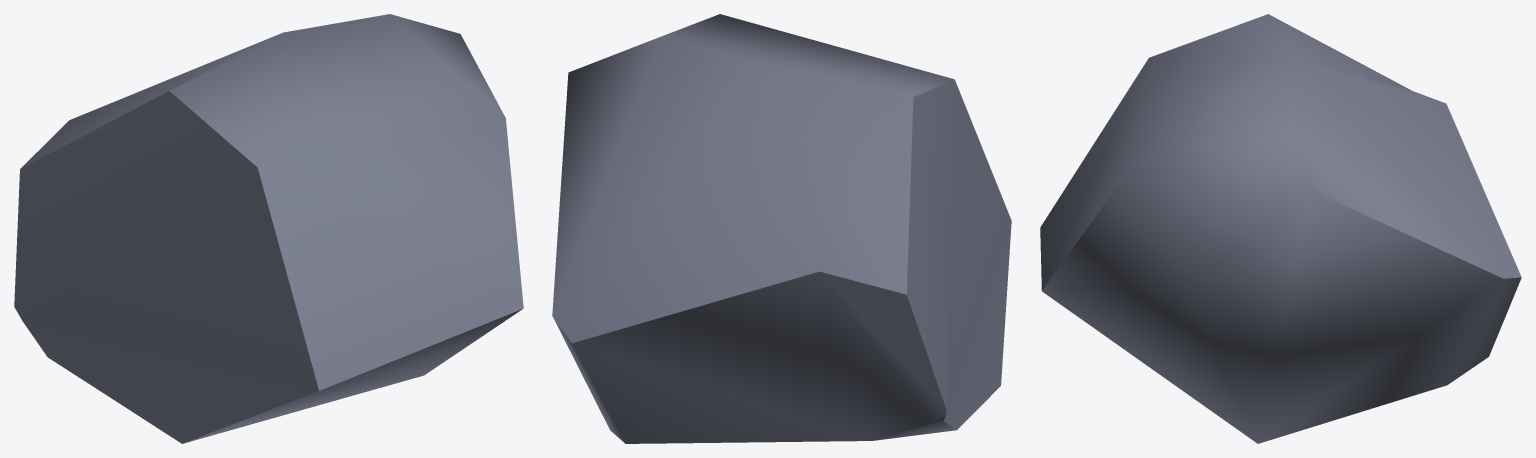
The model's file is Sm_Rocks4L.fbx.
3 views of the same model, side by side, from view 1: azimuth 30°, elevation 25°; view 2: azimuth 150°, elevation 25°; view 3: azimuth 270°, elevation 25° (orthographic). The views are drawn at different scales.
Parts seen in each view (by area): view 1: Sm_Rocks4L; view 2: Sm_Rocks4L; view 3: Sm_Rocks4L.
Part boxes in pixels (x1,y1,x2,y2): Sm_Rocks4L: (14, 14, 523, 443); Sm_Rocks4L: (552, 14, 1011, 443); Sm_Rocks4L: (1040, 14, 1521, 443).
Bounding box in the file's own units: 120 × 100 × 133.
